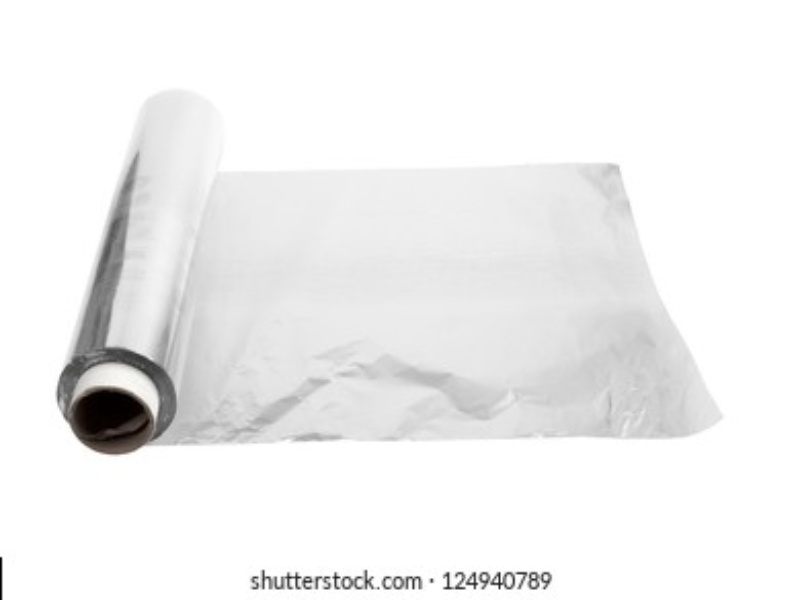Aluminium_Foil: (77, 75, 728, 478), (238, 191, 623, 356), (316, 302, 705, 432)
